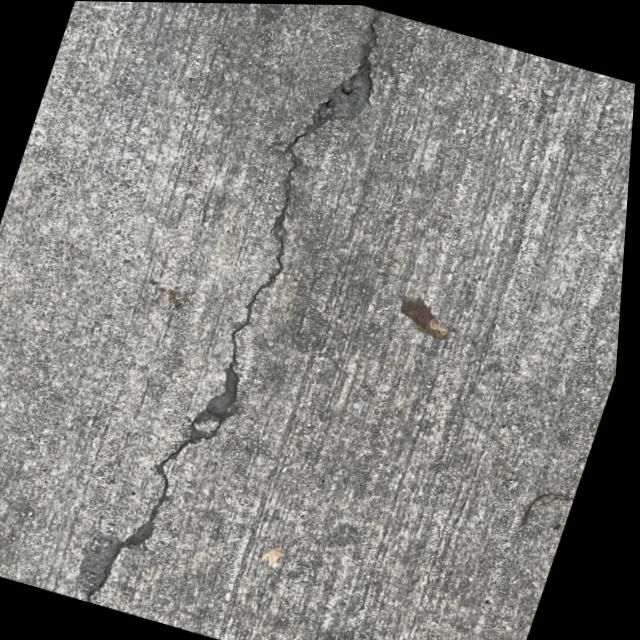Crack: (61, 1, 418, 638)
